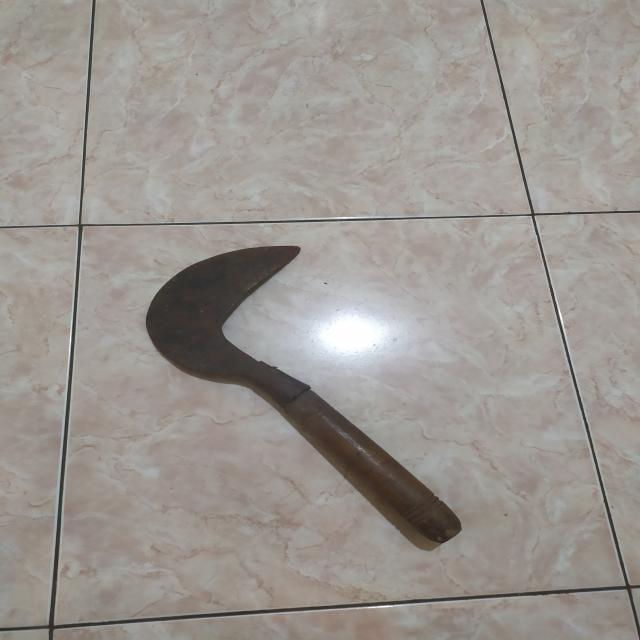Celurit: (150, 247, 466, 545)
